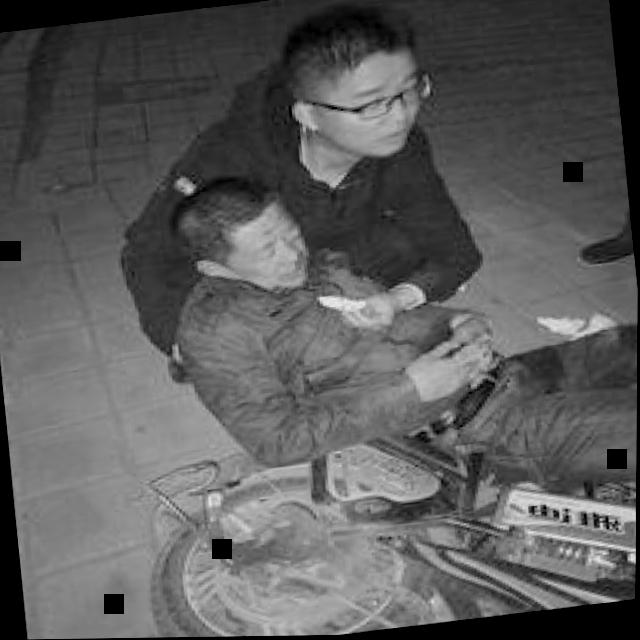Fall-Detected: (127, 102, 639, 565)
